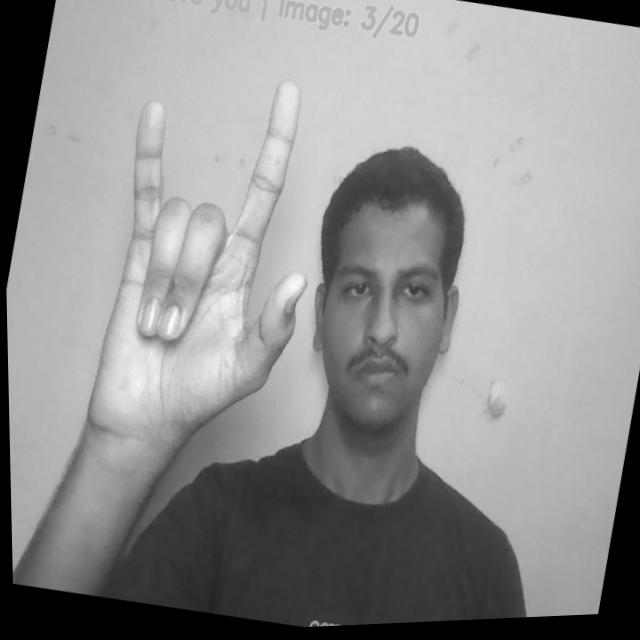I love you: (80, 58, 346, 462)
